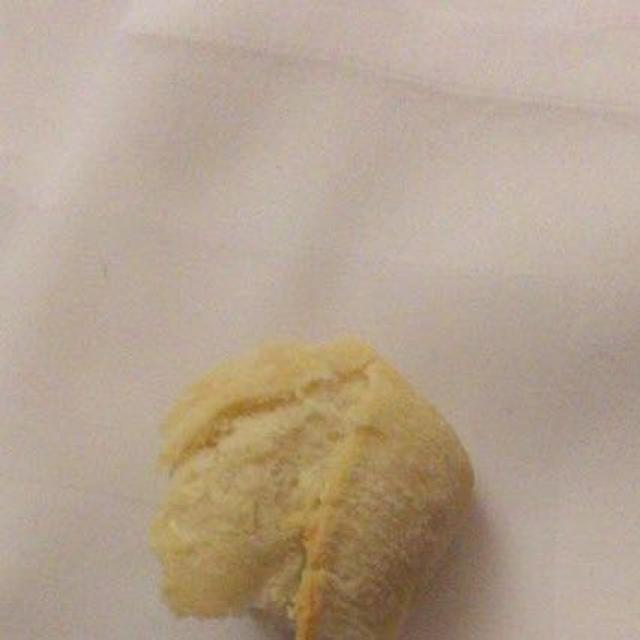bread-white: (152, 336, 485, 621)
